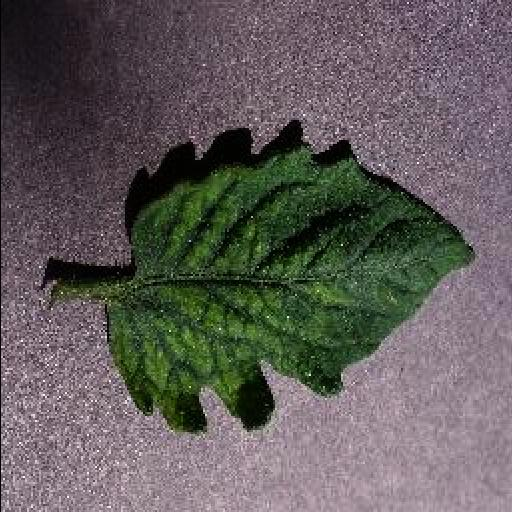disease_tomato: (103, 137, 481, 439)
